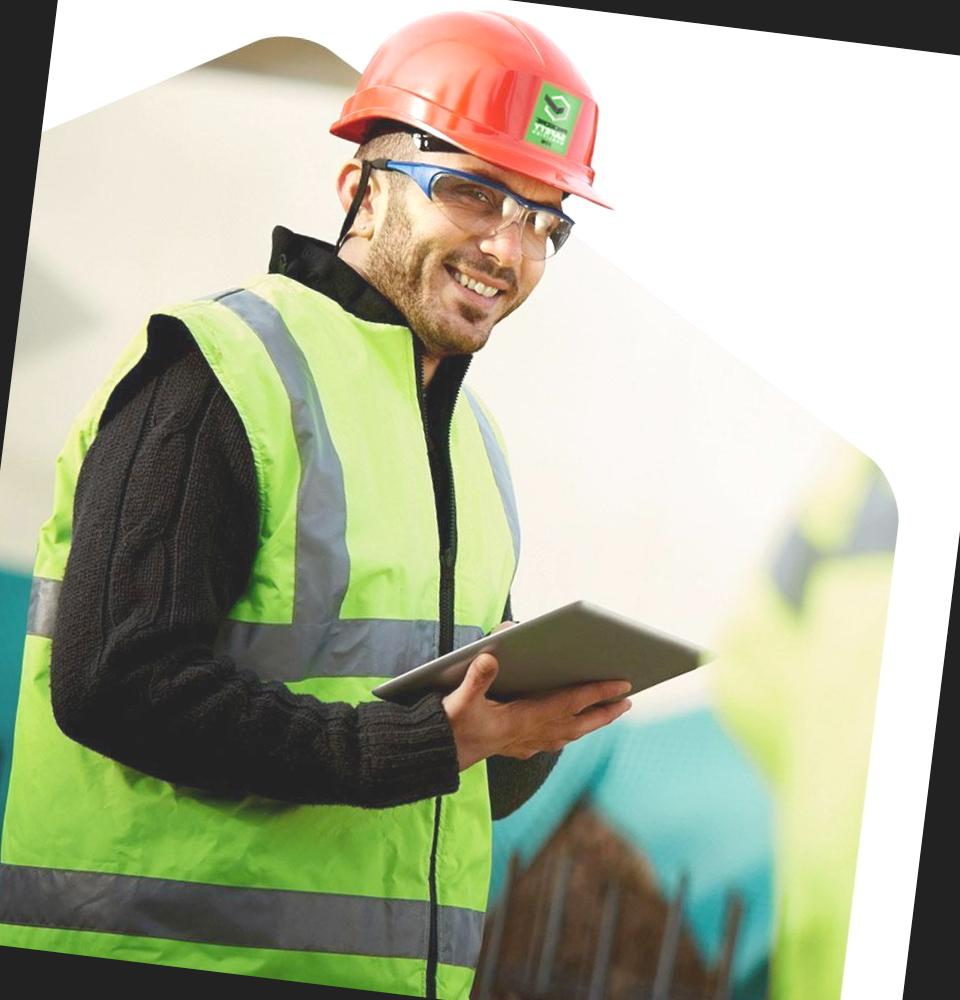helmet: (317, 0, 617, 206)
person: (0, 0, 628, 1000)
